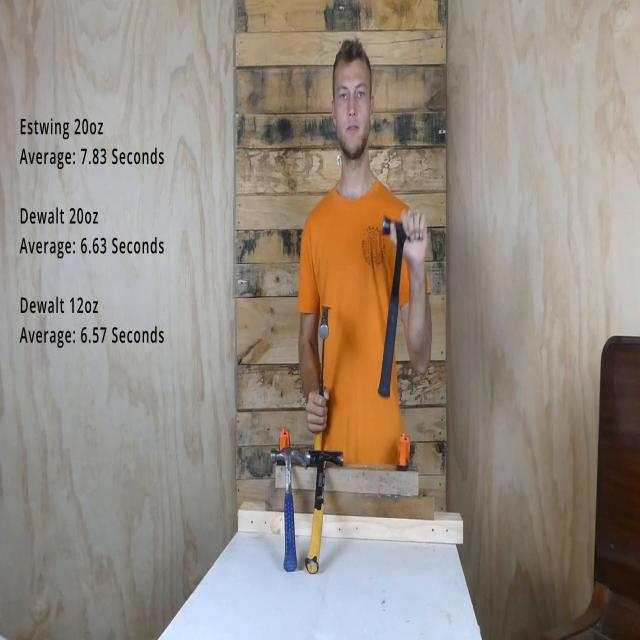hammer: (375, 216, 427, 403), (269, 439, 310, 574), (307, 446, 349, 572), (310, 300, 334, 456)
